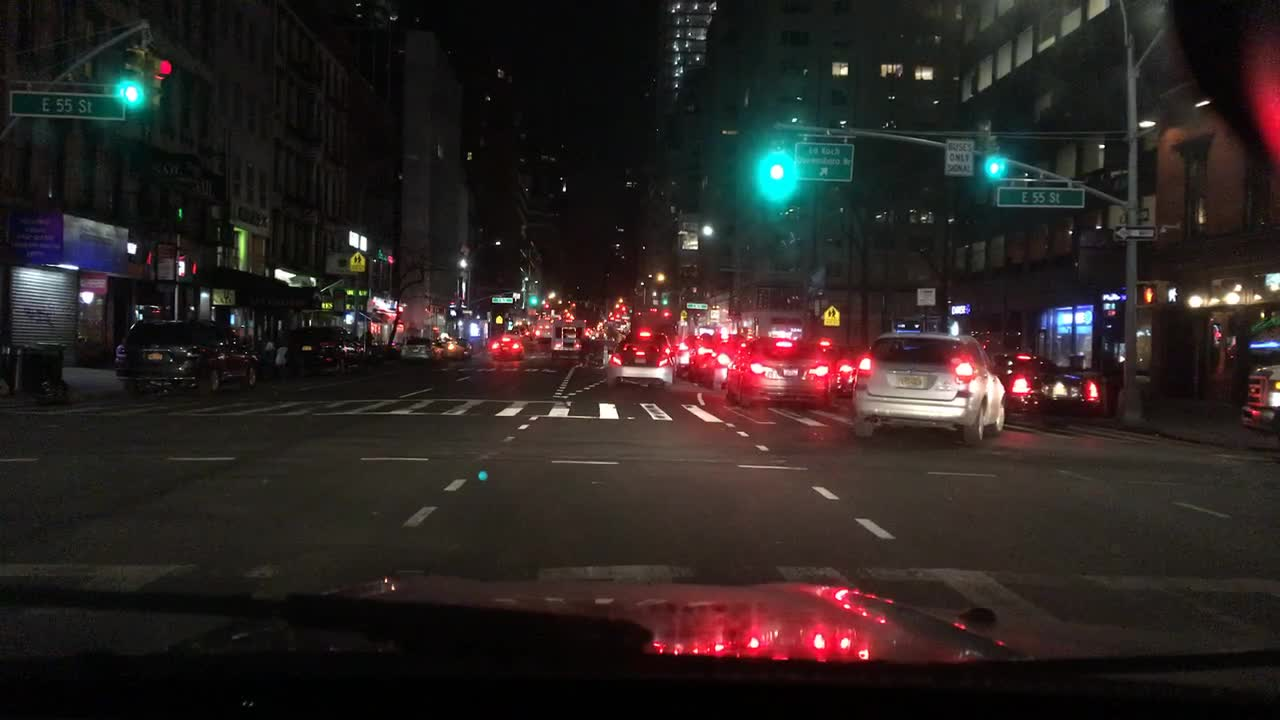car: (849, 326, 1005, 446), (112, 316, 262, 396), (990, 349, 1104, 426), (722, 336, 831, 411), (284, 325, 370, 375), (606, 330, 676, 391), (803, 338, 855, 398), (1240, 358, 1277, 437), (699, 335, 747, 391), (688, 333, 722, 381), (550, 320, 583, 360), (673, 331, 699, 379), (398, 334, 441, 363), (487, 333, 526, 361), (585, 338, 616, 366), (444, 338, 474, 359), (534, 320, 550, 346)
traffic light: (117, 43, 147, 109), (148, 52, 174, 112), (763, 133, 787, 185), (985, 144, 1005, 180), (1160, 279, 1180, 305), (1137, 279, 1157, 305), (527, 291, 537, 306), (661, 291, 668, 305)
traffic sign: (7, 89, 127, 122), (793, 140, 854, 183), (995, 184, 1085, 208), (1104, 193, 1160, 227), (940, 138, 975, 177), (1109, 225, 1157, 242), (915, 285, 935, 306), (348, 250, 366, 273), (822, 304, 840, 326), (686, 301, 711, 311), (491, 295, 514, 305), (495, 314, 501, 325)
